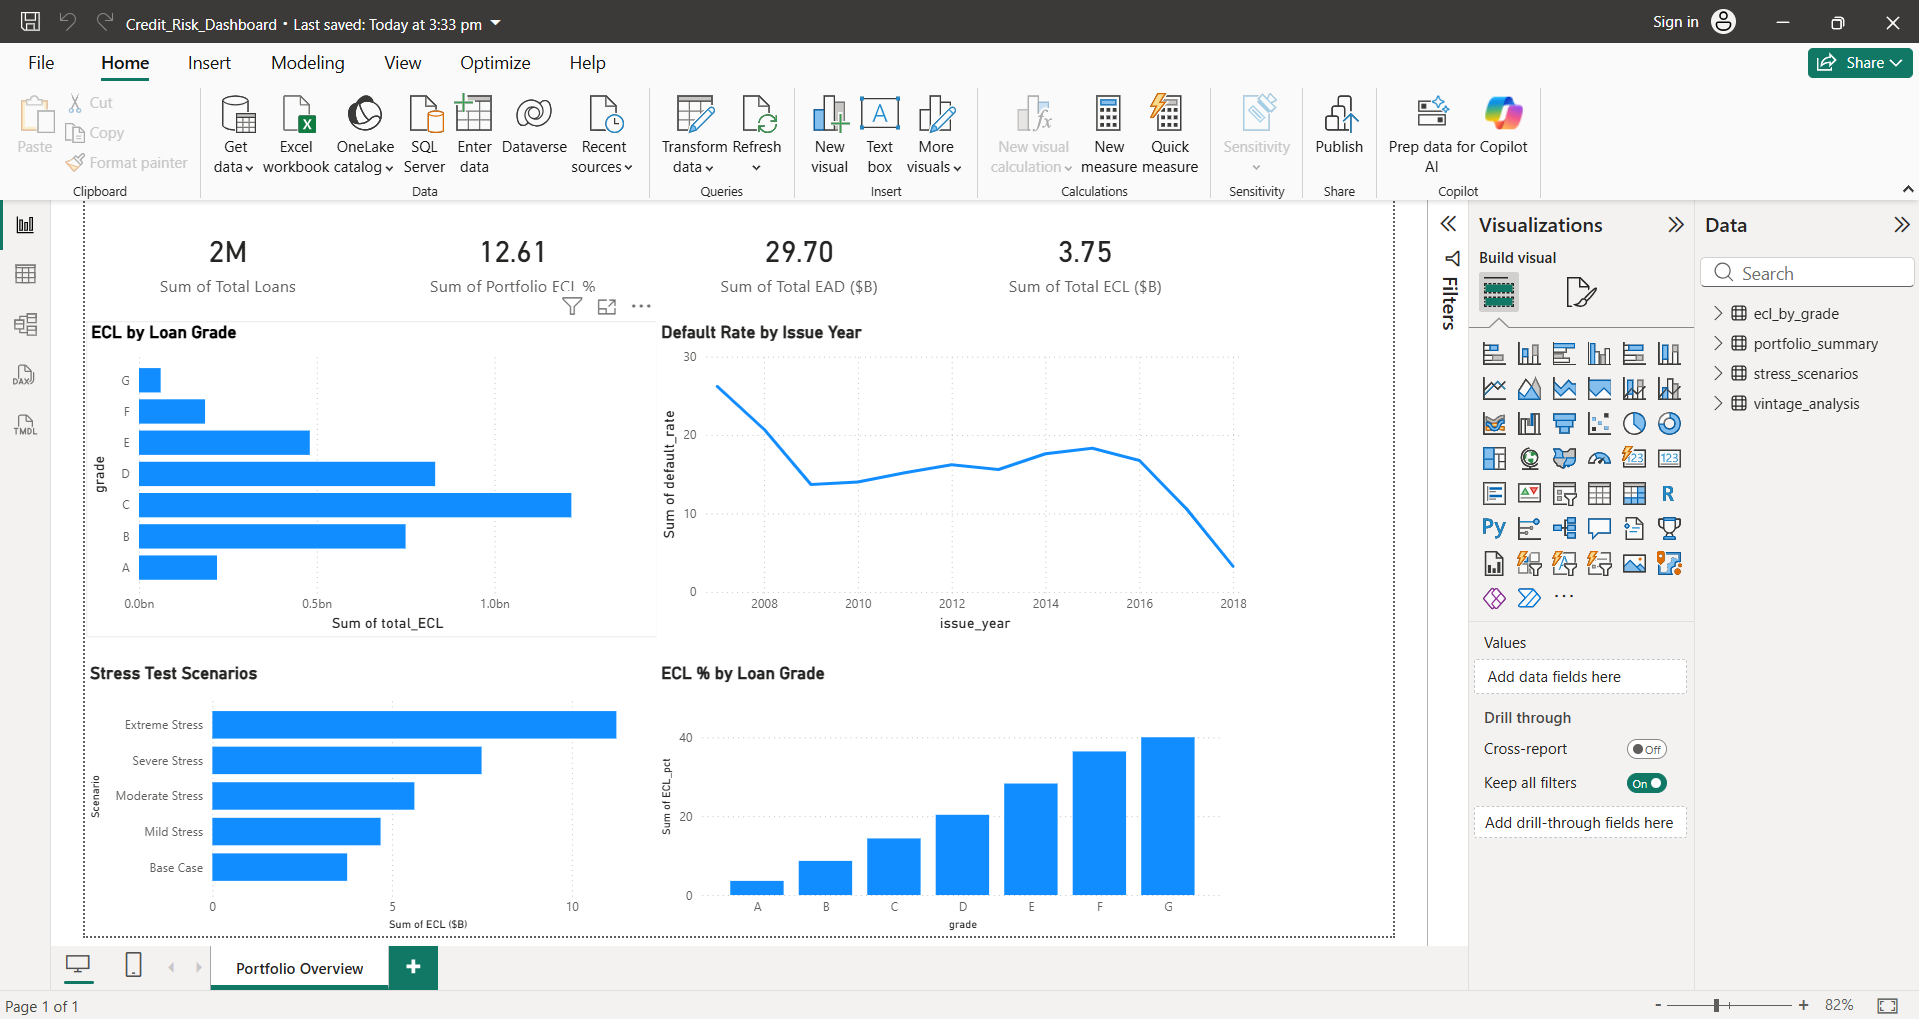

This screenshot's page, from the dashboard's own definition file:
{"tool":"powerbi","page":{"name":"Portfolio Overview","canvas":[1280,720],"ordinal":0},"visuals":[{"type":"card","fields":{"Values":["Sum(portfolio_summary.Total Loans)"]},"box":[0,0,280,118.8],"z":0},{"type":"card","fields":{"Values":["Sum(portfolio_summary.Total EAD ($B))"]},"box":[558.8,0,280,118.8],"z":1},{"type":"card","fields":{"Values":["Sum(portfolio_summary.Total ECL ($B))"]},"box":[838.8,0,280,118.8],"z":2},{"type":"card","fields":{"Values":["Sum(portfolio_summary.Portfolio ECL %)"]},"box":[278.8,0,280,118.8],"z":3},{"type":"clusteredBarChart","title":"ECL by Loan Grade","fields":{"Category":["ecl_by_grade.grade"],"Y":["Sum(ecl_by_grade.total_ECL)"]},"box":[1.2,118.8,558.8,308.8],"z":4},{"type":"lineChart","title":"Default Rate by Issue Year","fields":{"Category":["vintage_analysis.issue_year"],"Y":["Sum(vintage_analysis.default_rate)"]},"box":[558.8,118.8,582.5,308.8],"z":5},{"type":"clusteredBarChart","title":"Stress Test Scenarios","fields":{"Category":["stress_scenarios.Scenario"],"Y":["Sum(stress_scenarios.ECL ($B))"]},"box":[0,452.5,558.8,267.5],"z":6},{"type":"clusteredColumnChart","title":"ECL % by Loan Grade","fields":{"Category":["ecl_by_grade.grade"],"Y":["Sum(ecl_by_grade.ECL_pct)"]},"box":[558.8,452.5,560,267.5],"z":7}]}

Visuals, with their boxes on the page's 1280x720 design canvas (x1, y1, x2, y2). These are canvas units, not pixel positions in the 1919x1019 screenshot, which may show the page scaled, cropped or inside an application window:
card - Sum(portfolio_summary.Total Loans): 0, 0, 280, 119
card - Sum(portfolio_summary.Total EAD ($B)): 559, 0, 839, 119
card - Sum(portfolio_summary.Total ECL ($B)): 839, 0, 1119, 119
card - Sum(portfolio_summary.Portfolio ECL %): 279, 0, 559, 119
"ECL by Loan Grade" clusteredBarChart: 1, 119, 560, 428
"Default Rate by Issue Year" lineChart: 559, 119, 1141, 428
"Stress Test Scenarios" clusteredBarChart: 0, 452, 559, 720
"ECL % by Loan Grade" clusteredColumnChart: 559, 452, 1119, 720
